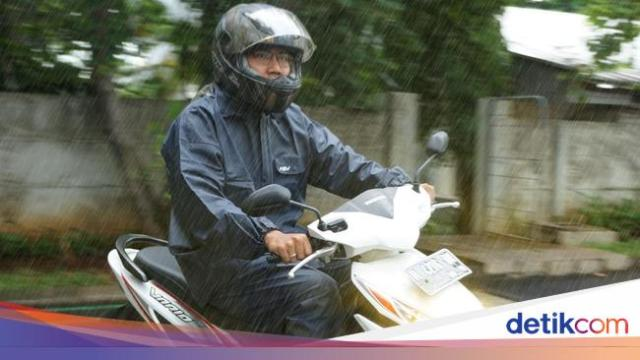helm: (209, 4, 317, 116)
motor: (105, 132, 487, 352)
